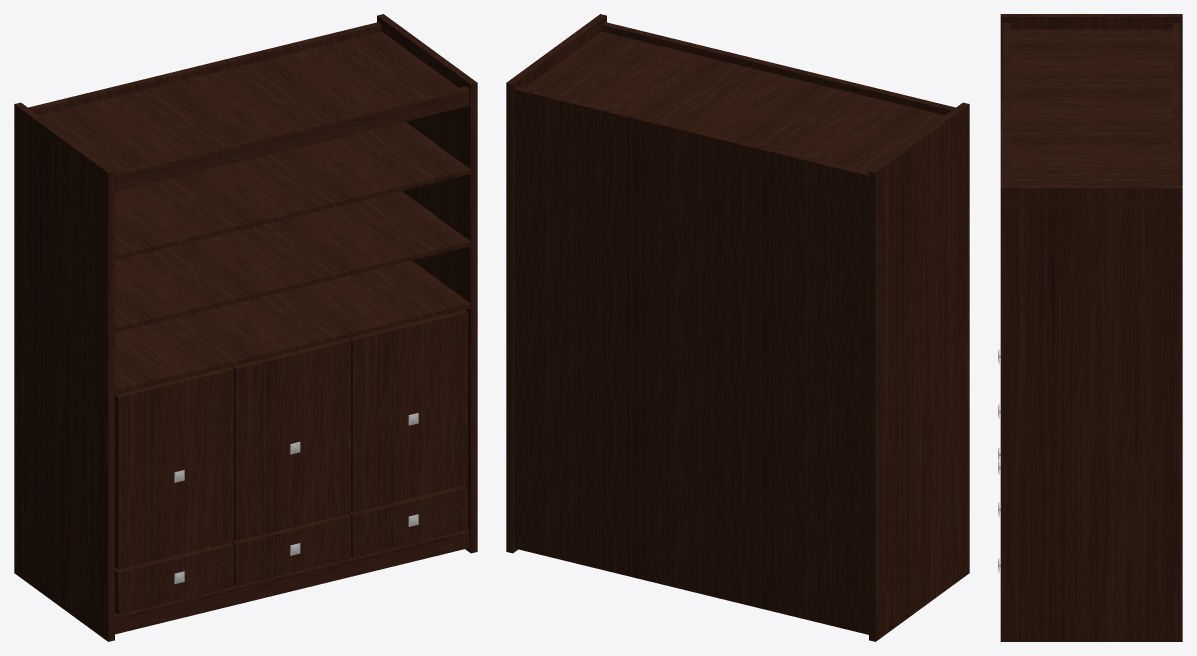
The model's file is wooden-cab2.glb.
3 views of the same model, side by side, from view 1: azimuth 30°, elevation 25°; view 2: azimuth 150°, elevation 25°; view 3: azimuth 270°, elevation 25° (orthographic). The views are drawn at different scales.
Visible parts, largest first — view 1: Cube_8_PBR_0.002; view 2: Cube_8_PBR_0.002; view 3: Cube_8_PBR_0.002.
Boxes of the visible parts, <box> form: Cube_8_PBR_0.002: <box>14,14,477,641</box>; Cube_8_PBR_0.002: <box>506,14,969,641</box>; Cube_8_PBR_0.002: <box>998,14,1182,641</box>.
Size of the model in its own units: 1.87 by 2.26 by 0.8341.
2 materials, 1 textured.
